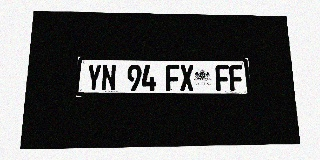4: (142, 64, 156, 91)
9: (127, 64, 141, 91)
F: (215, 65, 230, 91), (229, 65, 244, 91), (166, 65, 180, 91)
N: (101, 64, 116, 91)
X: (180, 65, 194, 91)
Y: (86, 64, 102, 91)
